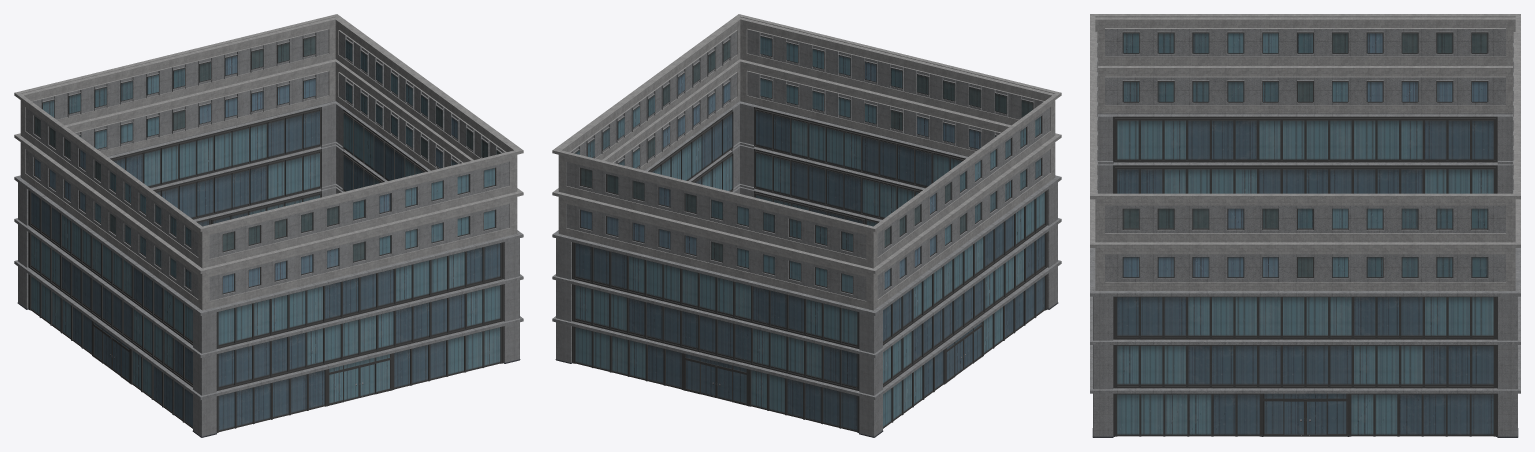
Rendered from jctBld24_D_btm.fbx.
3 views of the same model, side by side, from view 1: azimuth 30°, elevation 25°; view 2: azimuth 150°, elevation 25°; view 3: azimuth 270°, elevation 25° (orthographic). The views are drawn at different scales.
Parts seen in each view (by area): view 1: jctBld24_D_btm_LOD0; view 2: jctBld24_D_btm_LOD0; view 3: jctBld24_D_btm_LOD0.
Part boxes in pixels (box(x1,y1,x2,y2)): jctBld24_D_btm_LOD0: box(14, 14, 523, 437); jctBld24_D_btm_LOD0: box(552, 14, 1061, 437); jctBld24_D_btm_LOD0: box(1090, 14, 1520, 437).
Bounding box in the file's own units: 2410 × 1500 × 2410.
